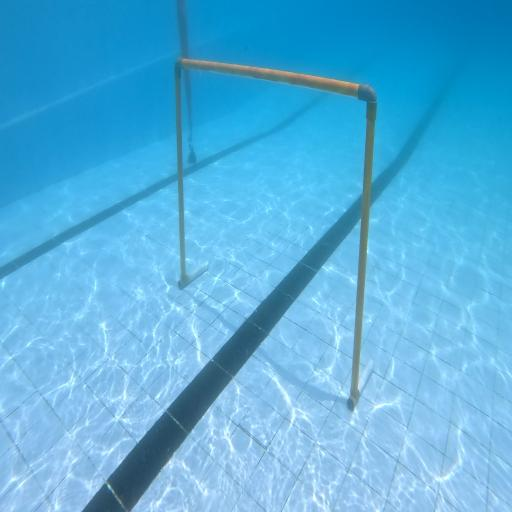gate: (174, 58, 377, 412)
